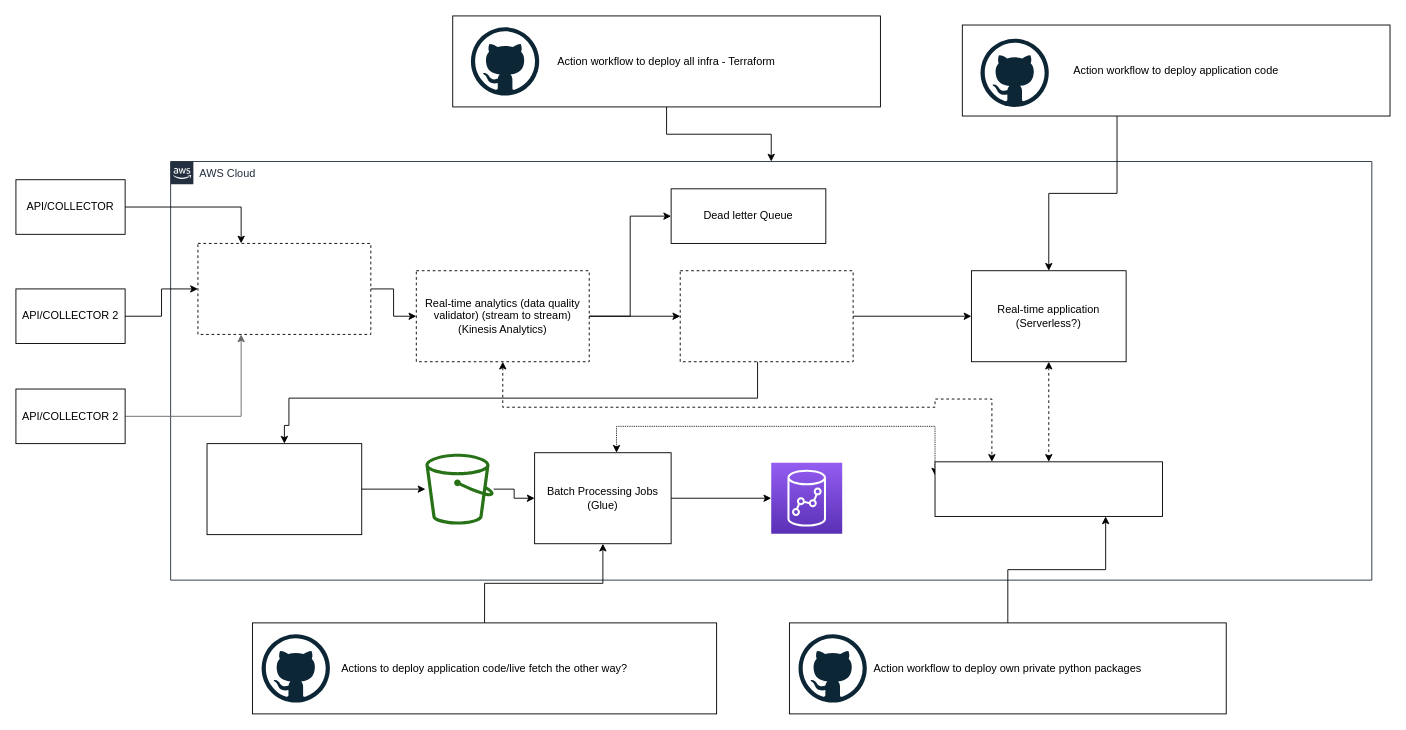
The diagram is 1406 pixels wide and 730 high, and some of its shapes have lost their labels. The centre of each missing label's shape, as x and y in pixels:
Bucket: (x=459, y=488)
Private Pip repository (Codeartifact): (x=1048, y=488)
Real-time stream - Raw data (kafka./kinesis): (x=284, y=288)
Real-time stream - validated data (kafka./kinesis): (x=766, y=316)
Redshift tables: (x=806, y=498)
Stream to batch - collector (Kinesis Firehose): (x=284, y=489)
